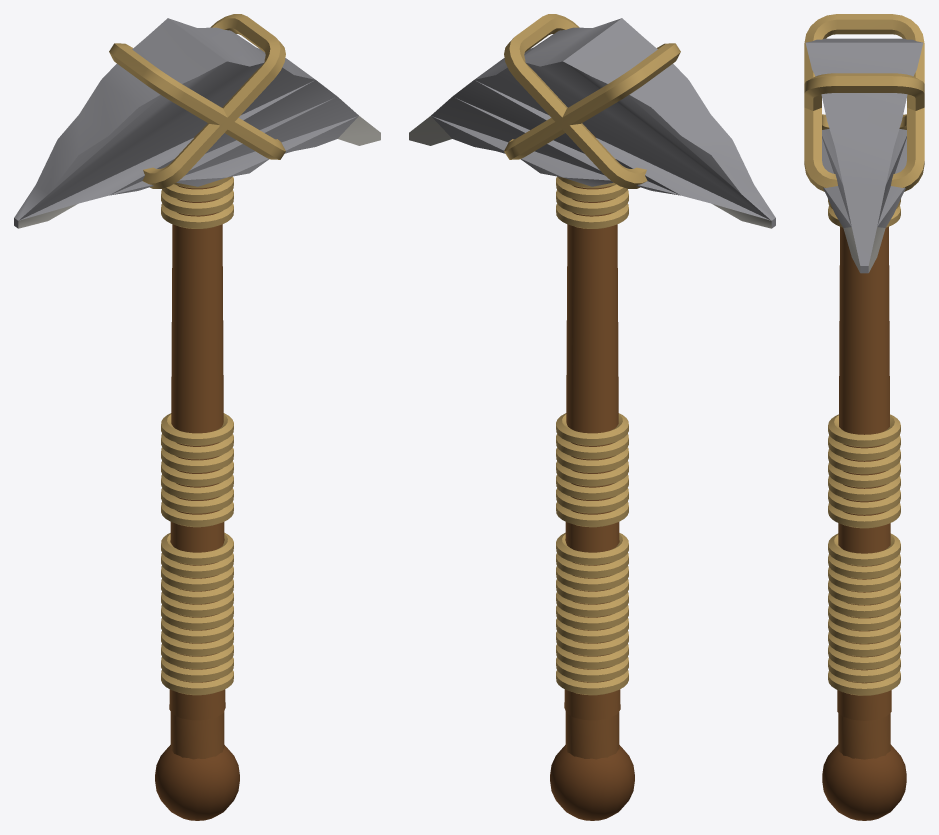
3 views of the same model, side by side, from view 1: azimuth 30°, elevation 25°; view 2: azimuth 150°, elevation 25°; view 3: azimuth 270°, elevation 25° (orthographic).
Parts seen in each view (by area): view 1: body; view 2: body; view 3: body.
Boxes of the visible parts, left/top/right/bottom form: body: left=14, top=14, right=380, bottom=820; body: left=409, top=14, right=775, bottom=820; body: left=804, top=14, right=924, bottom=820.
Size of the model in its own units: 0.35 by 0.717 by 0.1007.
1 material, 1 textured.
